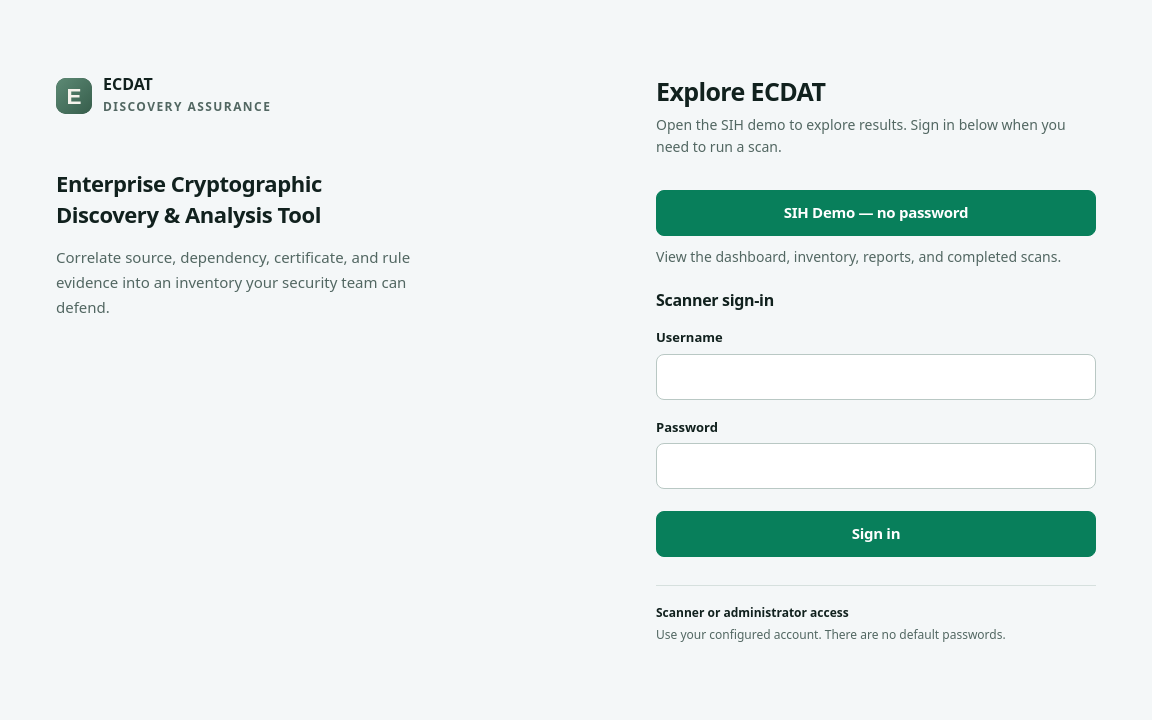
Test: Login › reports the appropriate sign-in failure
The width and height of the screenshot is (1152, 720).
Type "user" into the field labelled "Username" at [876, 377], box [656, 354, 1096, 400]
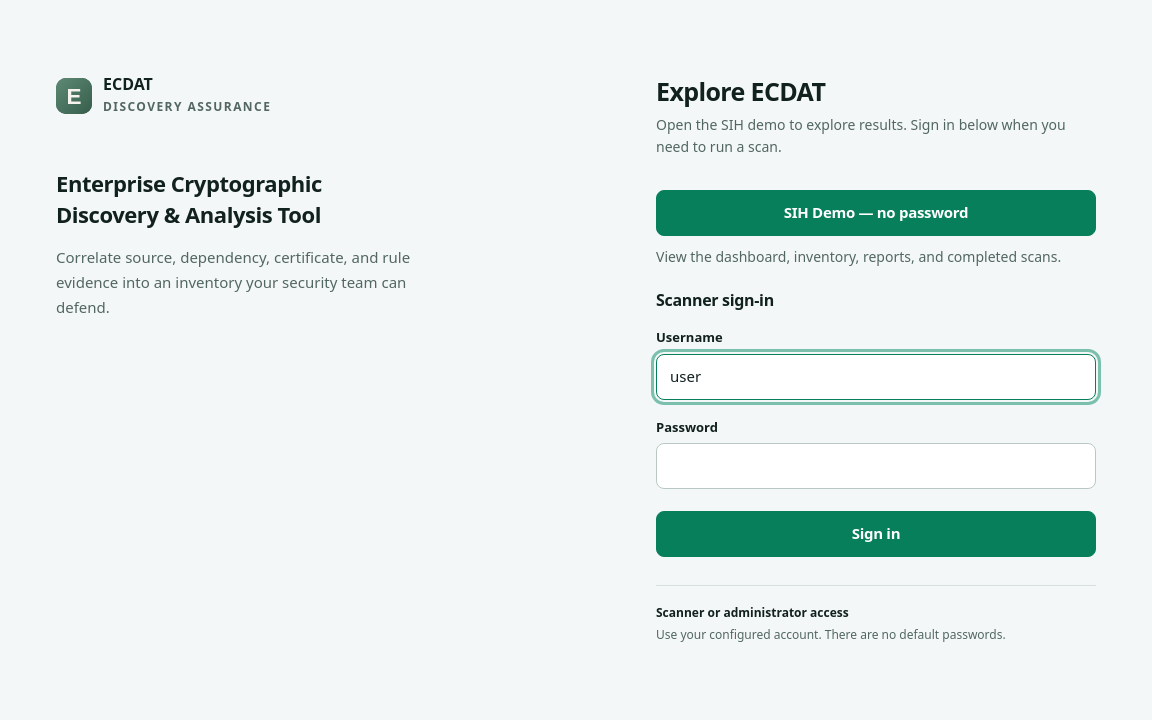
Type "password" into the password field labelled "Password" at [876, 466], box [656, 443, 1096, 489]
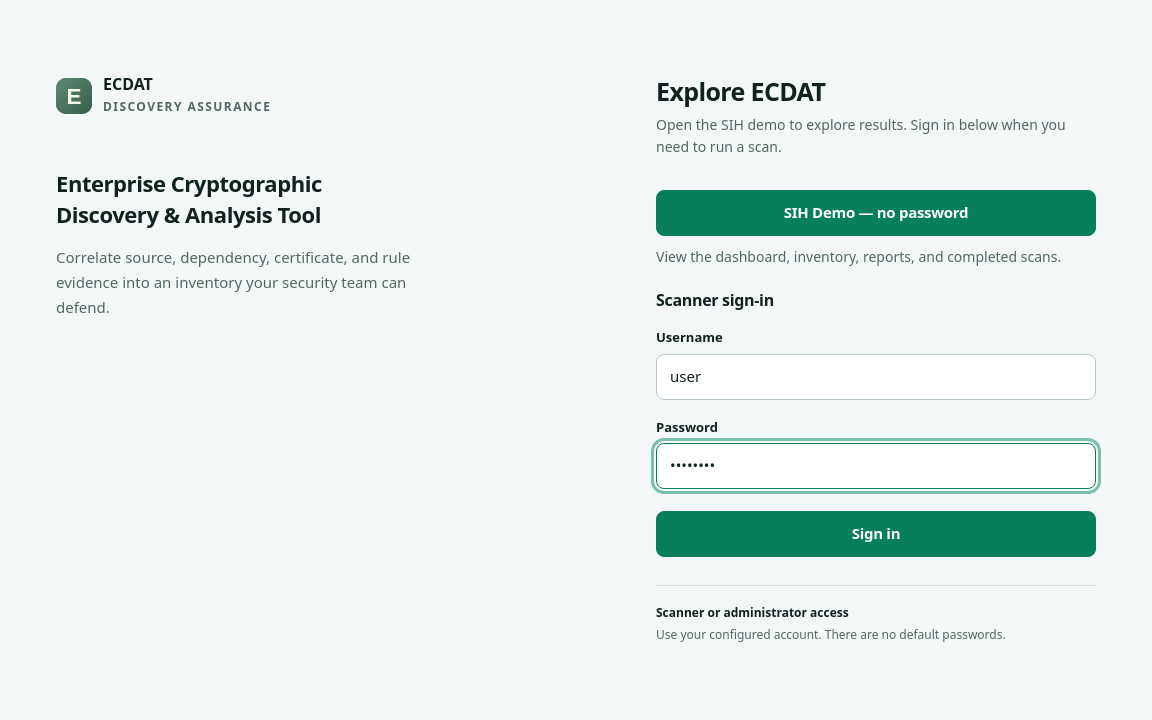
Click the button "Sign in" at [876, 534], box [656, 511, 1096, 557]
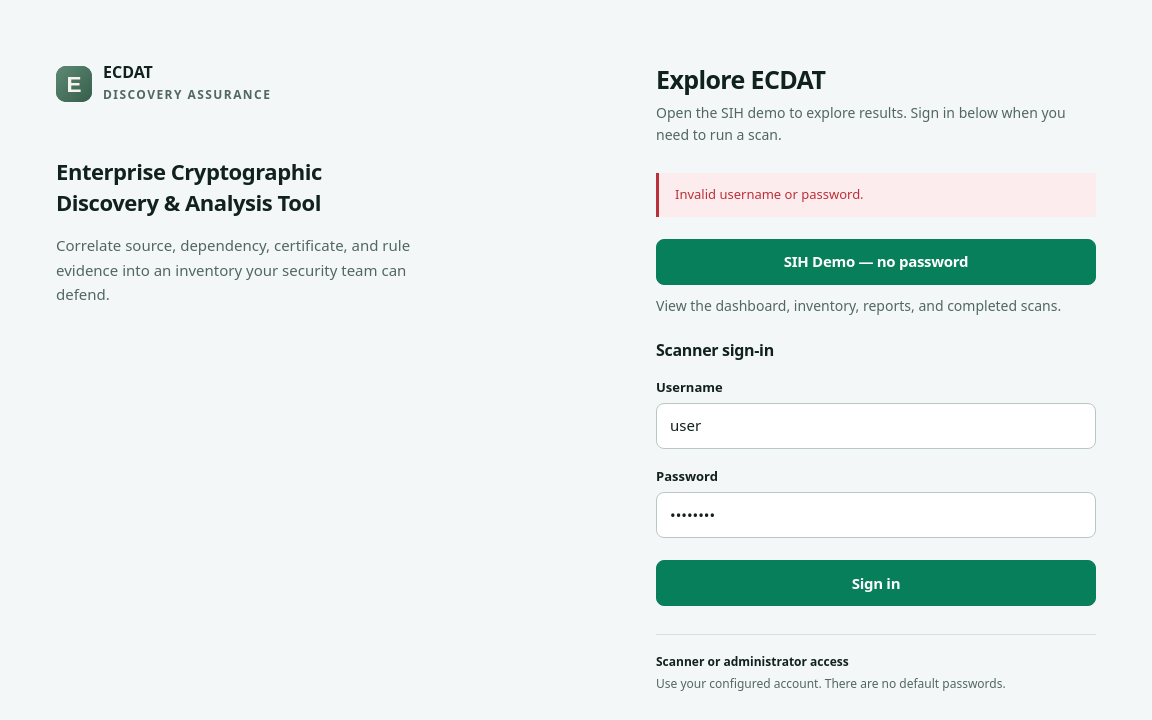
Now the message reads "Invalid username or password.", box [675, 185, 864, 203]
